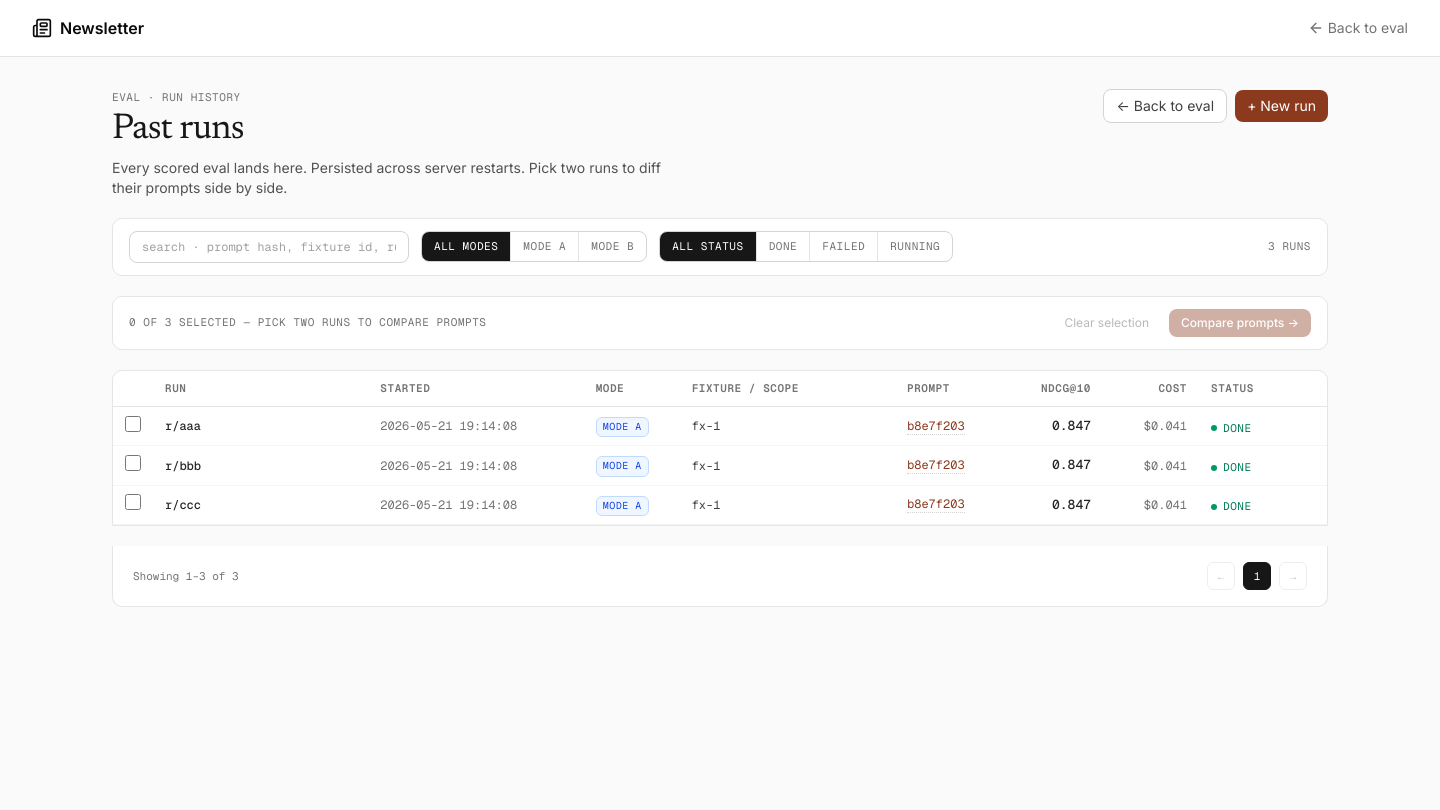
EvalRunsPage › checking two rows arms the compare CTA
expect the element with test id "runs-table-section" is shown: met, box [112,370,1328,526]
Click the checkbox with test id "runs-row-checkbox-aaa": (133, 424) [125,416,141,432]
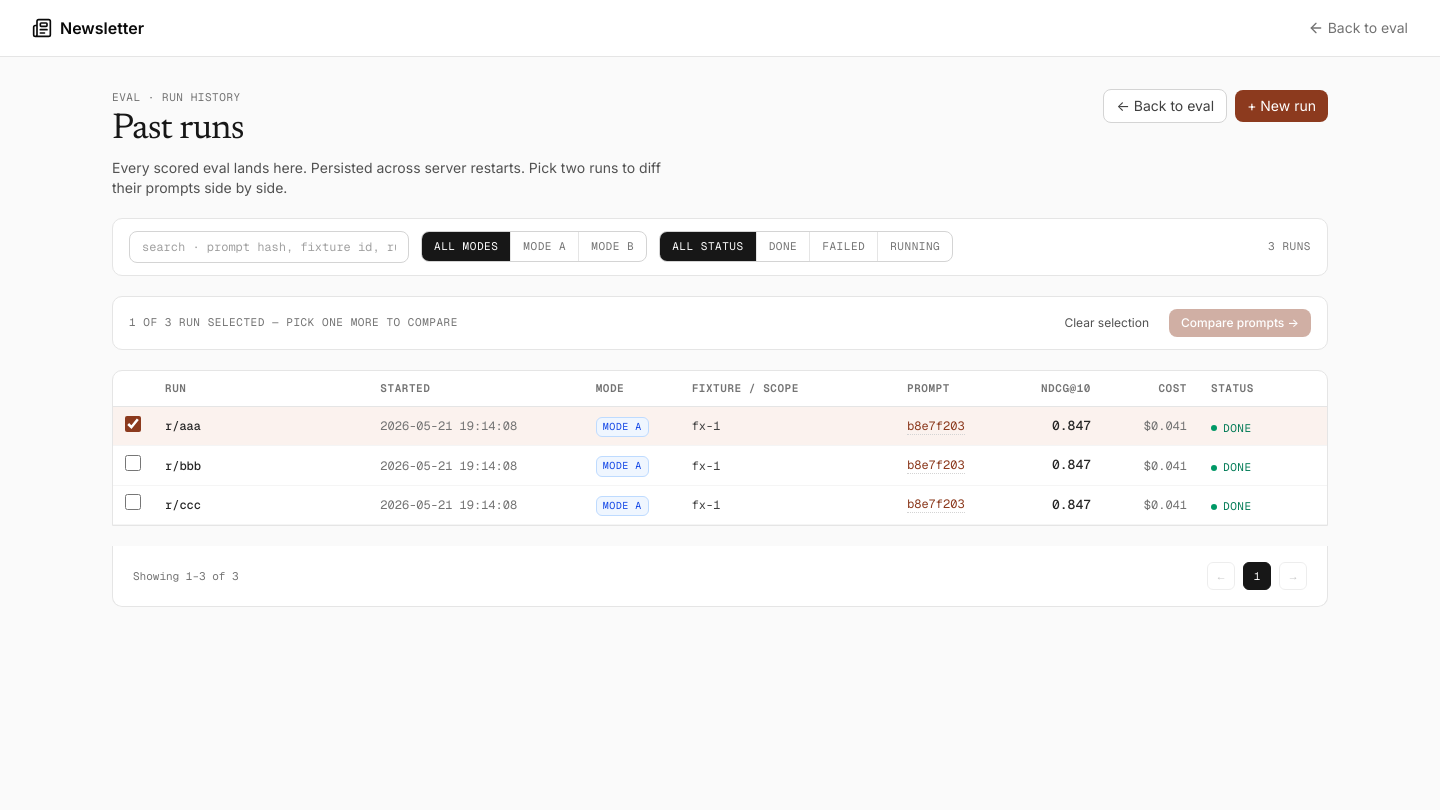
Click the checkbox with test id "runs-row-checkbox-bbb": (133, 463) [125,455,141,471]
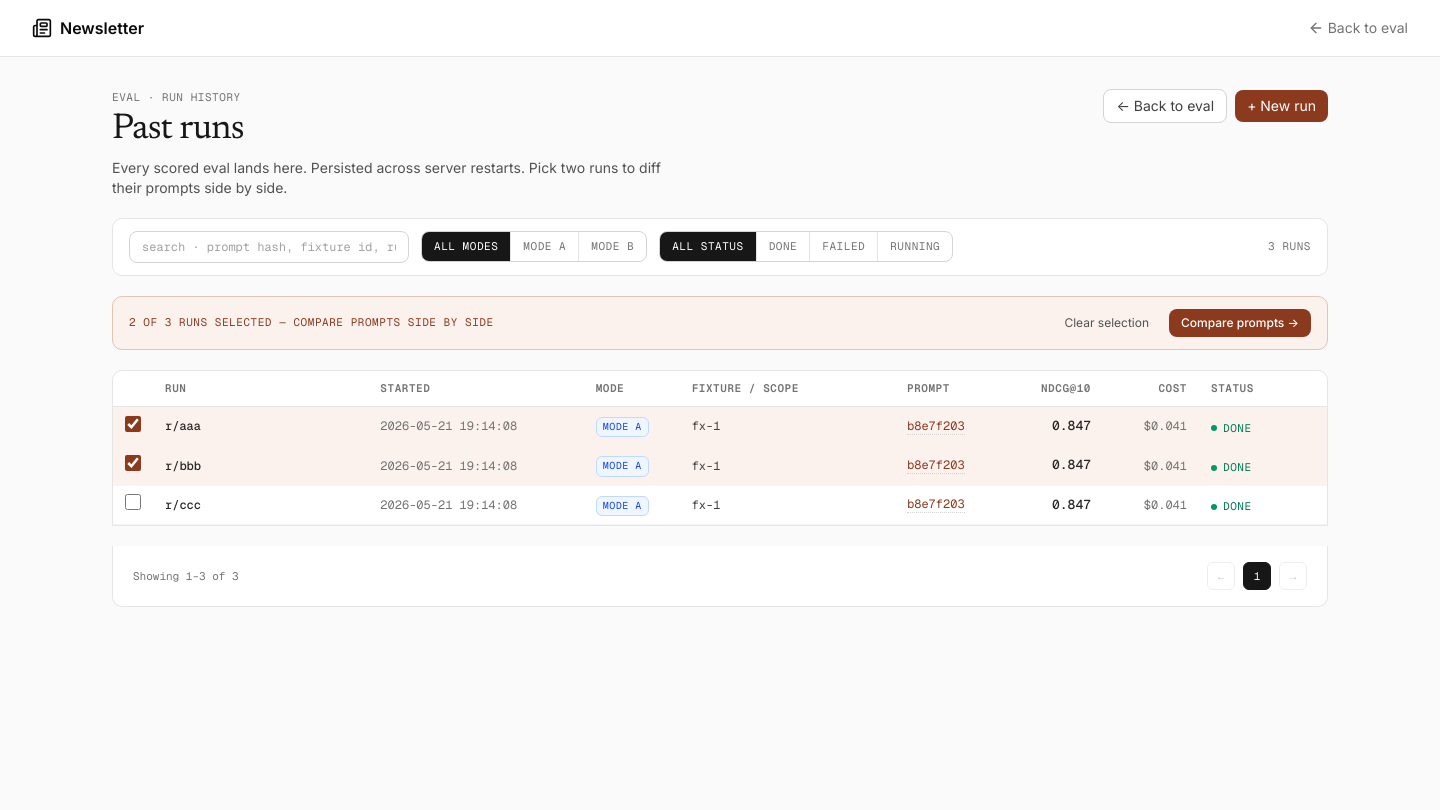
expect the element with test id "runs-compare-bar" shows "2 of 3": met, box [129,315,494,329]
expect the button with test id "runs-compare-cta" is enabled: met, box [1169,308,1311,336]
